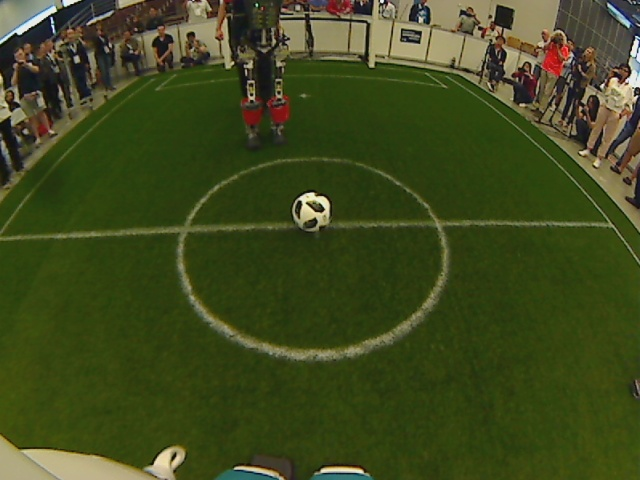ball: (287, 188, 337, 236)
